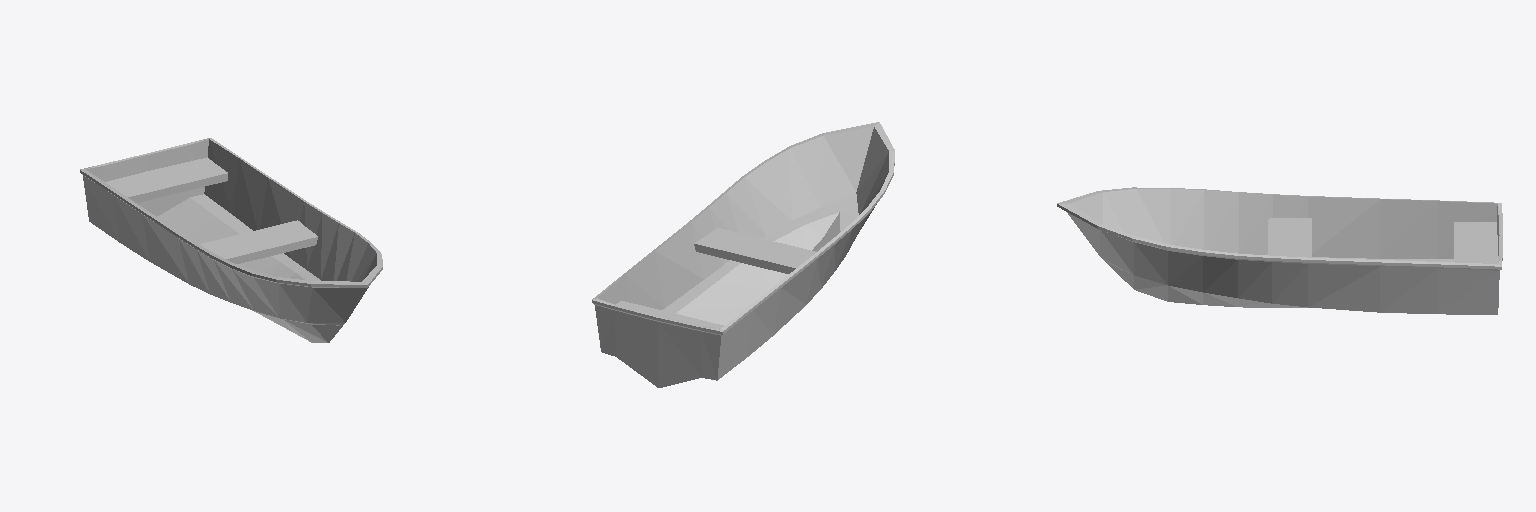
File: boat.obj
3 views of the same model, side by side, from view 1: azimuth 30°, elevation 25°; view 2: azimuth 150°, elevation 25°; view 3: azimuth 270°, elevation 25° (orthographic).
Parts seen in each view (by area): view 1: Boat_LP; view 2: Boat_LP; view 3: Boat_LP.
Boxes of the visible parts, x1=… form: Boat_LP: x1=80, y1=138, x2=382, y2=342; Boat_LP: x1=592, y1=122, x2=894, y2=387; Boat_LP: x1=1057, y1=187, x2=1502, y2=314.
Bounding box in the file's own units: 1.38 × 1.05 × 4.06.